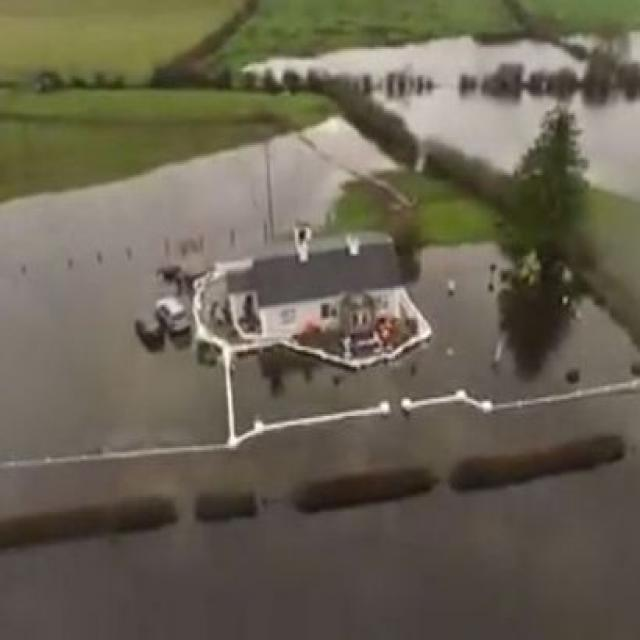flood: (0, 242, 640, 517), (0, 401, 640, 640), (0, 115, 399, 462), (252, 37, 640, 200), (617, 32, 640, 60)
house: (242, 232, 406, 340)
